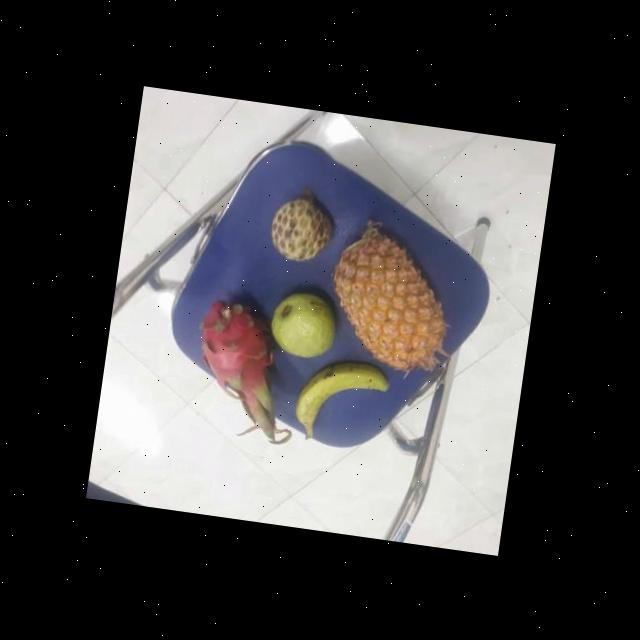Sakya fruit: (266, 194, 341, 266)
banana: (294, 353, 394, 449)
pear: (266, 285, 342, 361)
pineapple: (325, 225, 463, 372)
pitaya: (190, 296, 292, 414)
